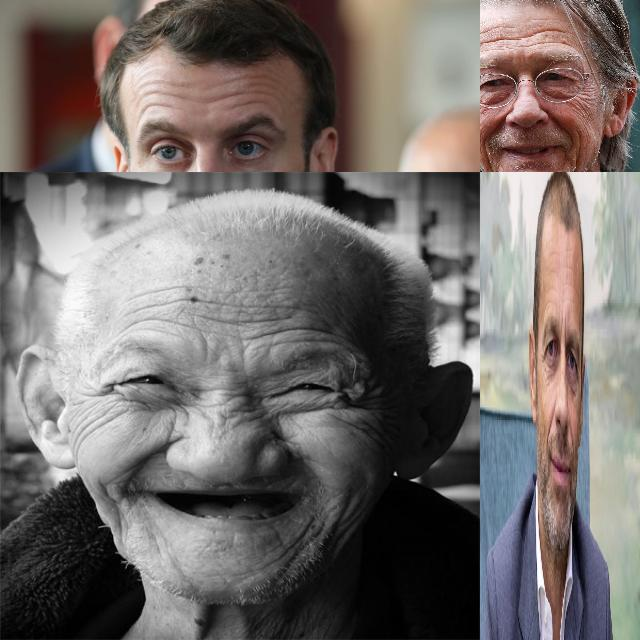bunny_line: (210, 411, 244, 432)
chin: (280, 523, 320, 564)
crows_feet: (340, 385, 380, 418), (78, 388, 120, 418), (540, 343, 546, 370), (576, 364, 580, 391)
forehead: (223, 74, 269, 110), (254, 323, 336, 343), (136, 73, 174, 113), (240, 304, 296, 331), (174, 295, 230, 321), (126, 293, 160, 323), (539, 23, 567, 49), (480, 22, 498, 49), (508, 26, 534, 44), (564, 257, 573, 279), (550, 241, 558, 262)
frown_line: (196, 381, 252, 409), (560, 307, 566, 346)
gummy_smile: (121, 445, 169, 487), (550, 108, 572, 134), (488, 112, 508, 138), (545, 406, 553, 449), (570, 427, 574, 460)
masseter: (89, 482, 128, 527), (327, 495, 357, 538), (576, 90, 598, 118), (481, 144, 499, 172), (570, 145, 585, 172)
